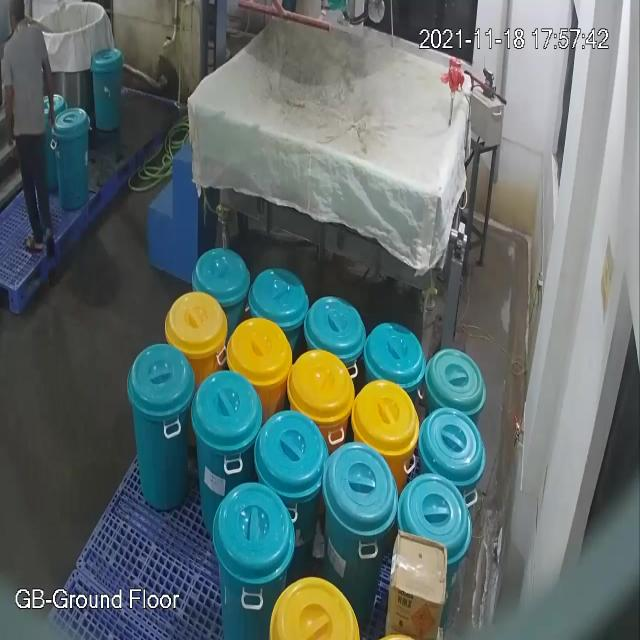no-shoes: (26, 236, 44, 254)
